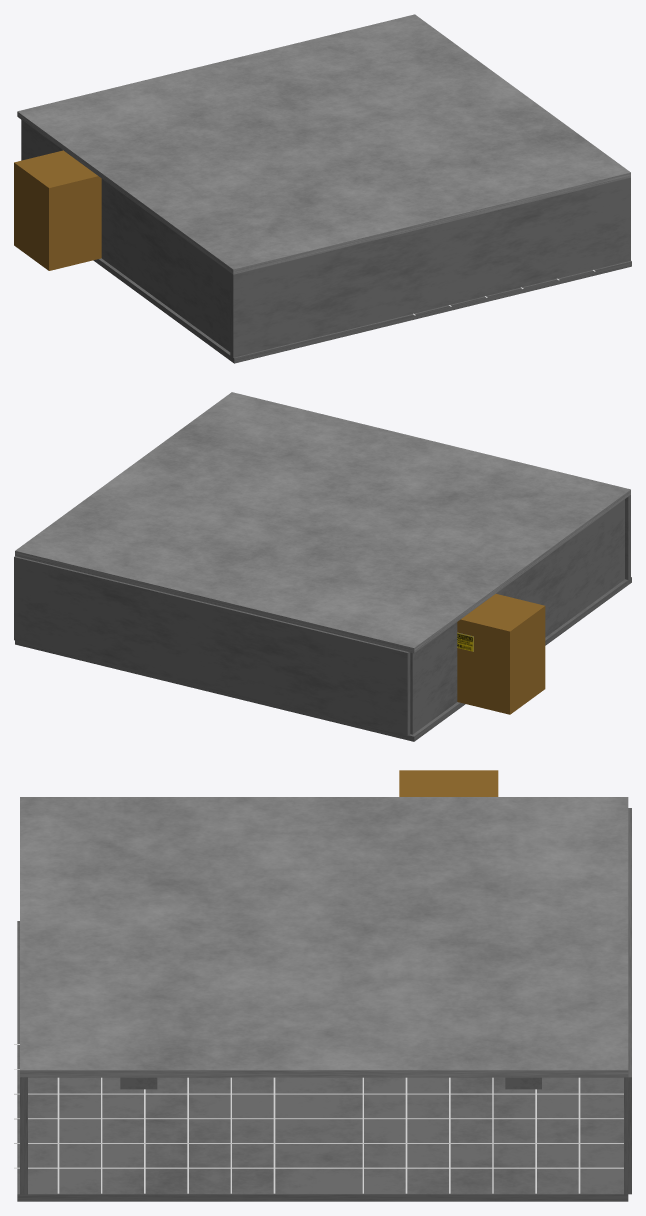
File: Frame 06. Maintenance region serving a low-rise hydraulic-style system..fbx
3 renders of one model, top to bottom at view 1: azimuth 30°, elevation 25°; view 2: azimuth 150°, elevation 25°; view 3: azimuth 270°, elevation 25°, orthographic. The views are drawn at different scales.
Visible parts, largest first — view 1: Cube.151, Cube.152, Cube.170, Cube.163, Cube.150; view 2: Cube.151, Cube.153, Cube.170, Cube.163, Cube.150, Cube.152; view 3: Cube.151, Cube.150, Cube.160, Cube.161, Cube.163, Cube.153, Cube.152.
Boxes of the visible parts, left/top/right/bottom form: Cube.151: left=17, top=14, right=630, bottom=274; Cube.152: left=230, top=178, right=630, bottom=357; Cube.170: left=22, top=120, right=230, bottom=351; Cube.163: left=14, top=150, right=101, bottom=270; Cube.150: left=93, top=258, right=631, bottom=363; Cube.151: left=15, top=392, right=630, bottom=653; Cube.153: left=14, top=556, right=410, bottom=736; Cube.170: left=410, top=499, right=624, bottom=734; Cube.163: left=457, top=594, right=545, bottom=714; Cube.150: left=15, top=577, right=631, bottom=741; Cube.152: left=625, top=495, right=630, bottom=579; Cube.151: left=20, top=797, right=628, bottom=1077; Cube.150: left=17, top=921, right=628, bottom=1201; Cube.160: left=319, top=1077, right=623, bottom=1193; Cube.161: left=14, top=1044, right=318, bottom=1193; Cube.163: left=399, top=770, right=498, bottom=796; Cube.153: left=624, top=808, right=631, bottom=1194; Cube.152: left=20, top=1077, right=27, bottom=1194.
Size of the model in its own units: 17943 by 3581 by 15255.
